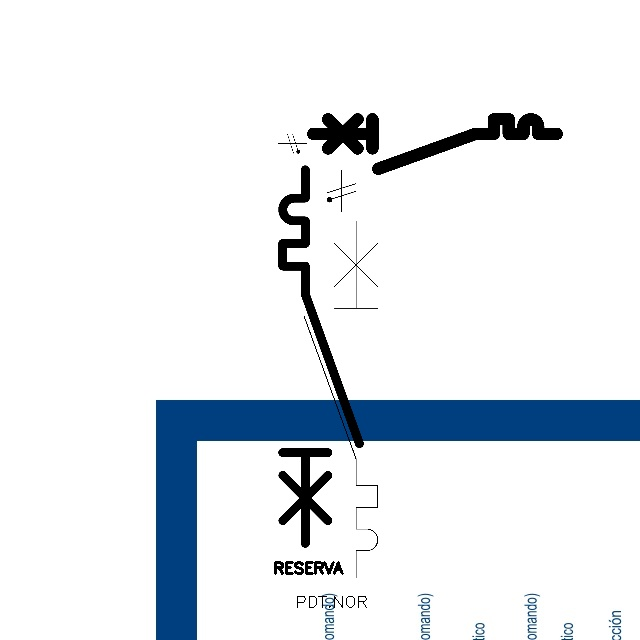interruptor_termomagnetico: (273, 160, 369, 553), (295, 212, 387, 587), (306, 113, 562, 175)
